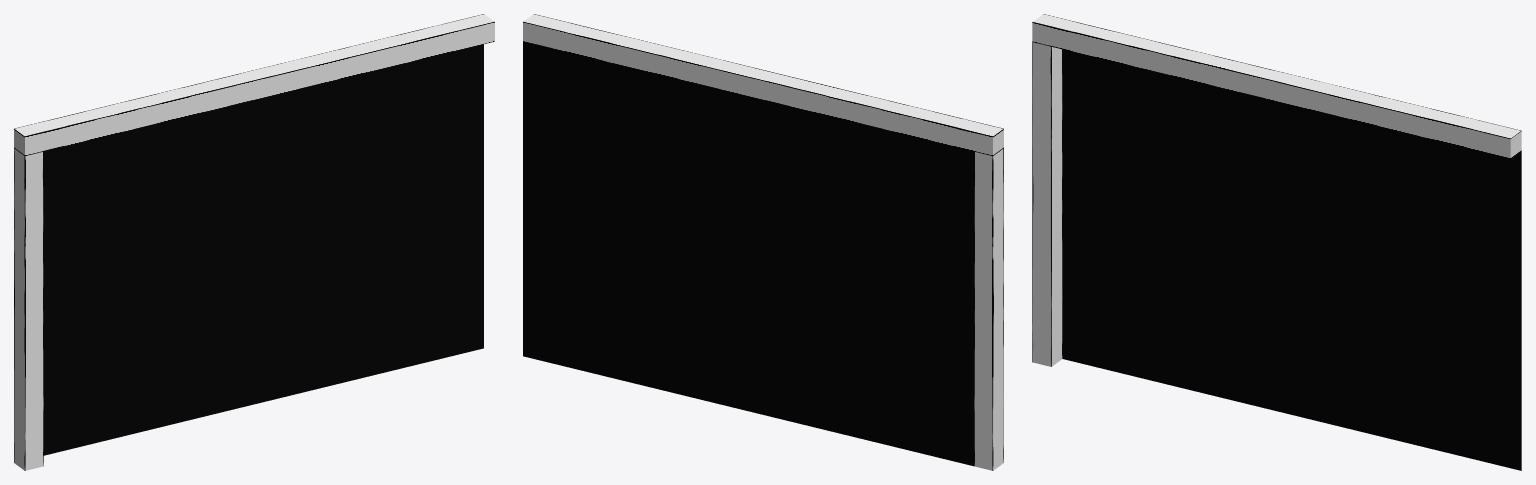
Rendered from gh_wall1_short.glb.
3 views of the same model, side by side, from view 1: azimuth 30°, elevation 25°; view 2: azimuth 150°, elevation 25°; view 3: azimuth 330°, elevation 25° (orthographic).
Visible parts, largest first — view 1: gh_wall1_short; view 2: gh_wall1_short; view 3: gh_wall1_short.
Boxes of the visible parts, x1=… form: gh_wall1_short: x1=14, y1=14, x2=494, y2=470; gh_wall1_short: x1=523, y1=14, x2=1003, y2=470; gh_wall1_short: x1=1032, y1=14, x2=1521, y2=470.
Size of the model in its own units: 1 by 0.68 by 0.04.
4 materials, 4 textured.
